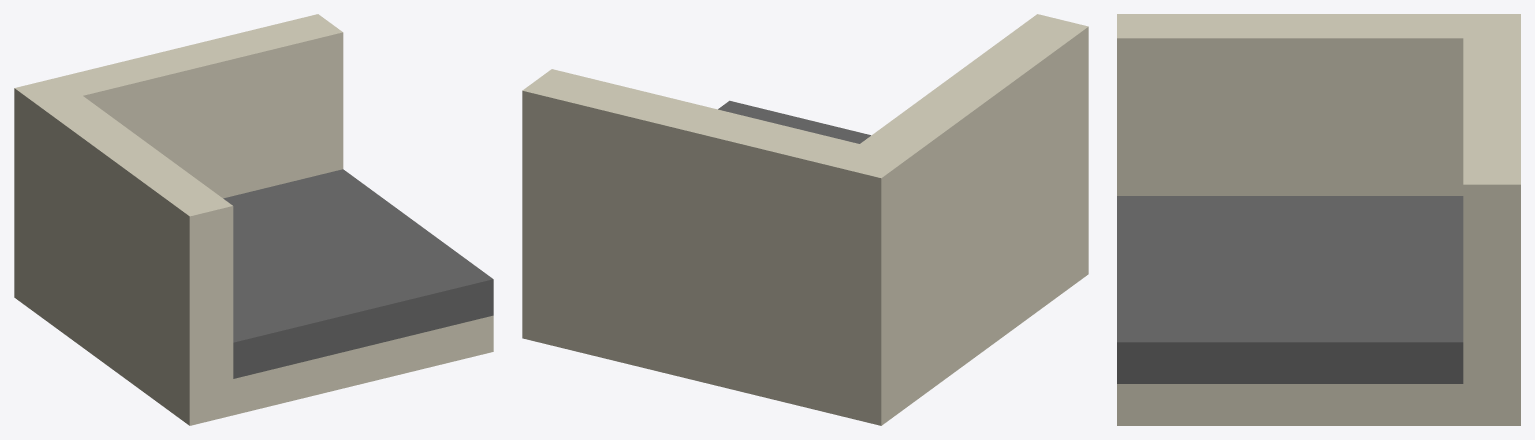
Rendered from tile185.dae.
3 renders of one model, left to right at view 1: azimuth 30°, elevation 25°; view 2: azimuth 150°, elevation 25°; view 3: azimuth 270°, elevation 25°, orthographic. The views are drawn at different scales.
Parts seen in each view (by area): view 1: tile185; view 2: tile185; view 3: tile185.
Boxes of the visible parts, <box> form: tile185: <box>14,14,493,425</box>; tile185: <box>522,14,1088,425</box>; tile185: <box>1117,14,1520,425</box>.
Size of the model in its own units: 0.875 by 0.5767 by 0.875.
